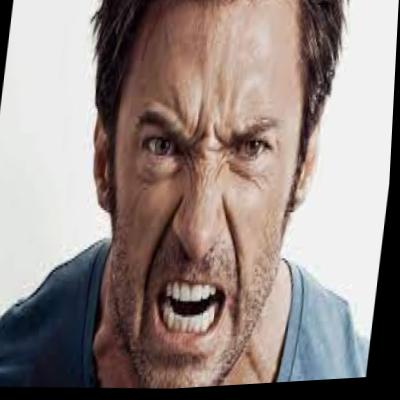angry: (71, 0, 350, 396)
